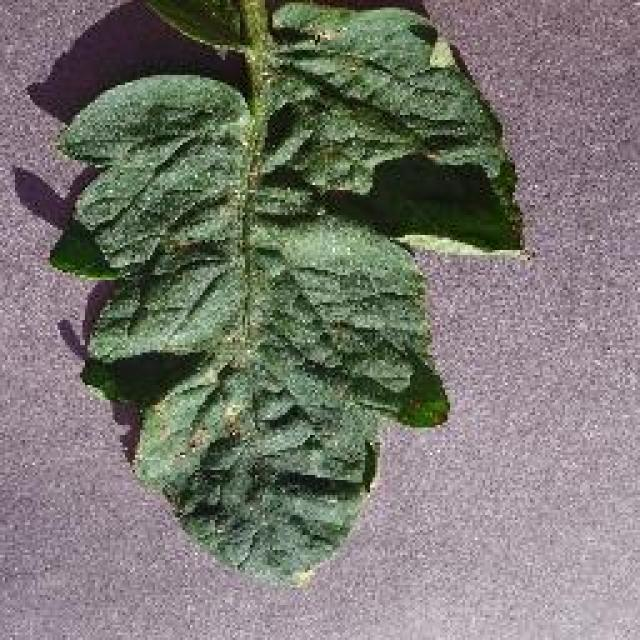Tomato___Target_Spot: (50, 0, 520, 591)
